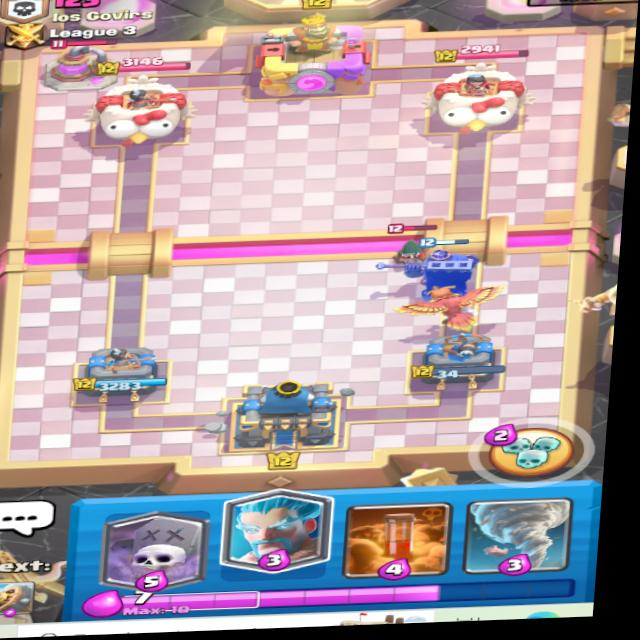Bandit: (369, 223, 438, 272)
Pump: (34, 31, 139, 94)
